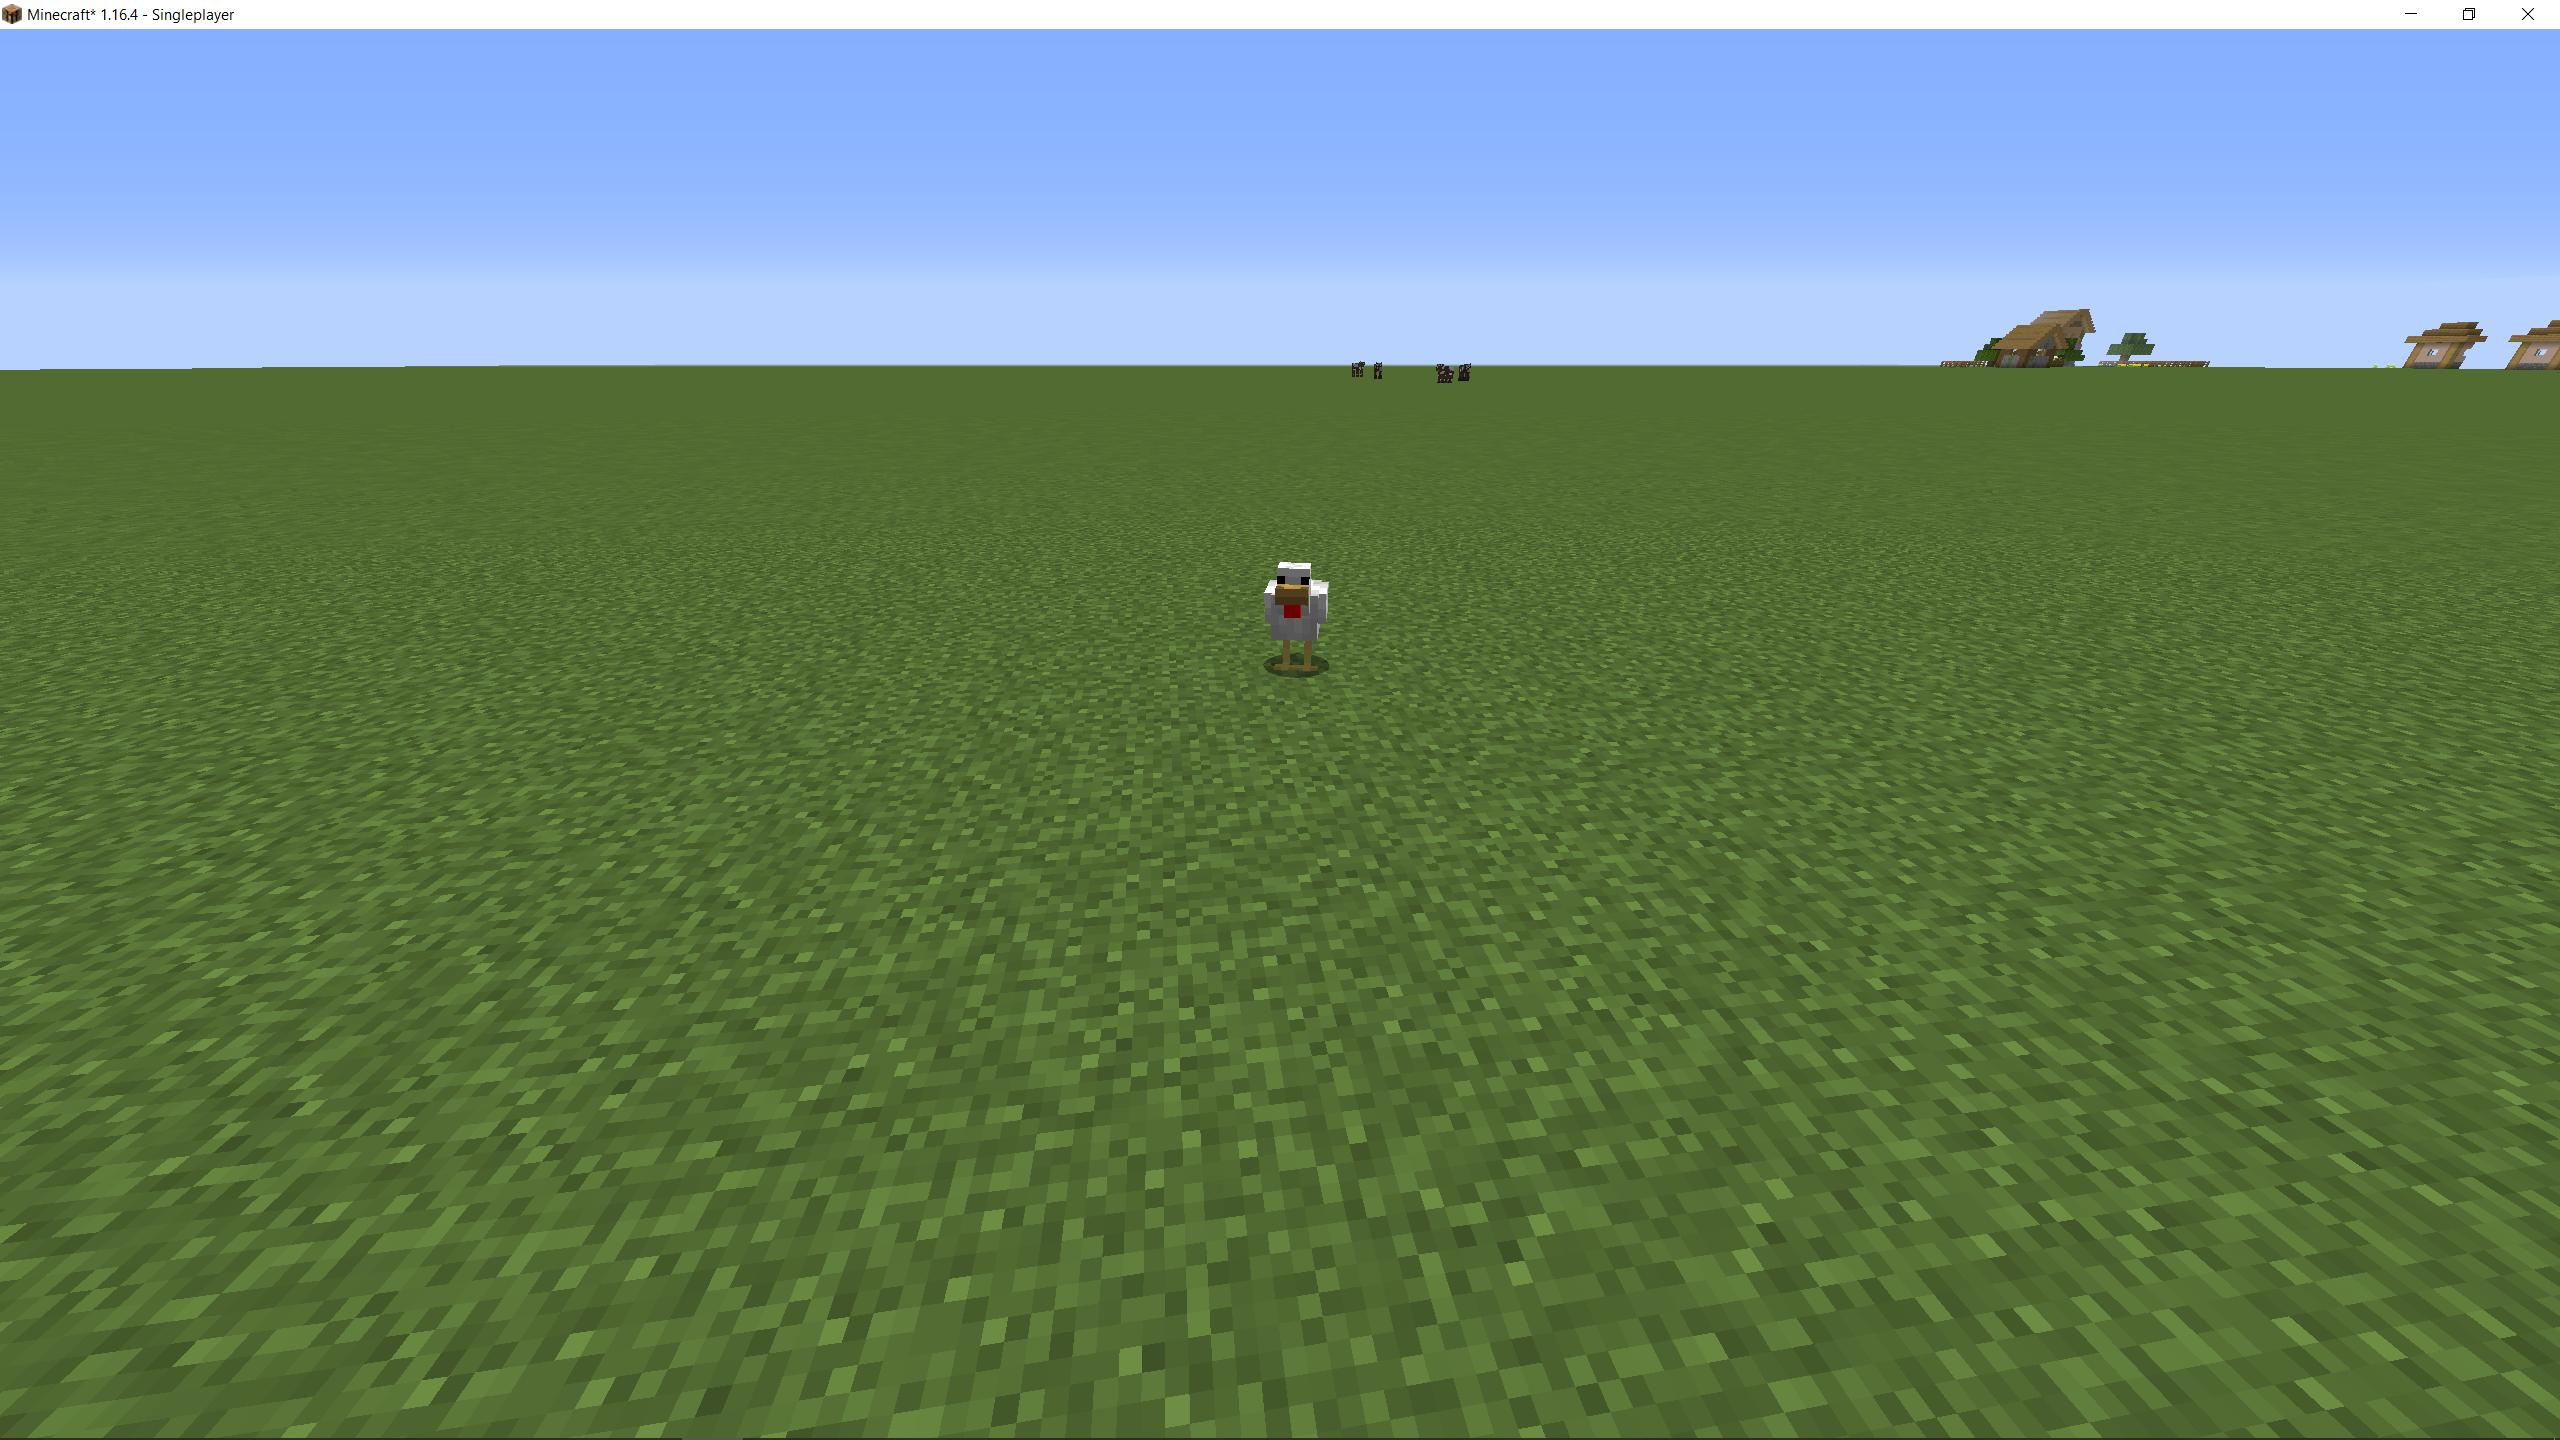chicken: (1255, 559, 1335, 679)
